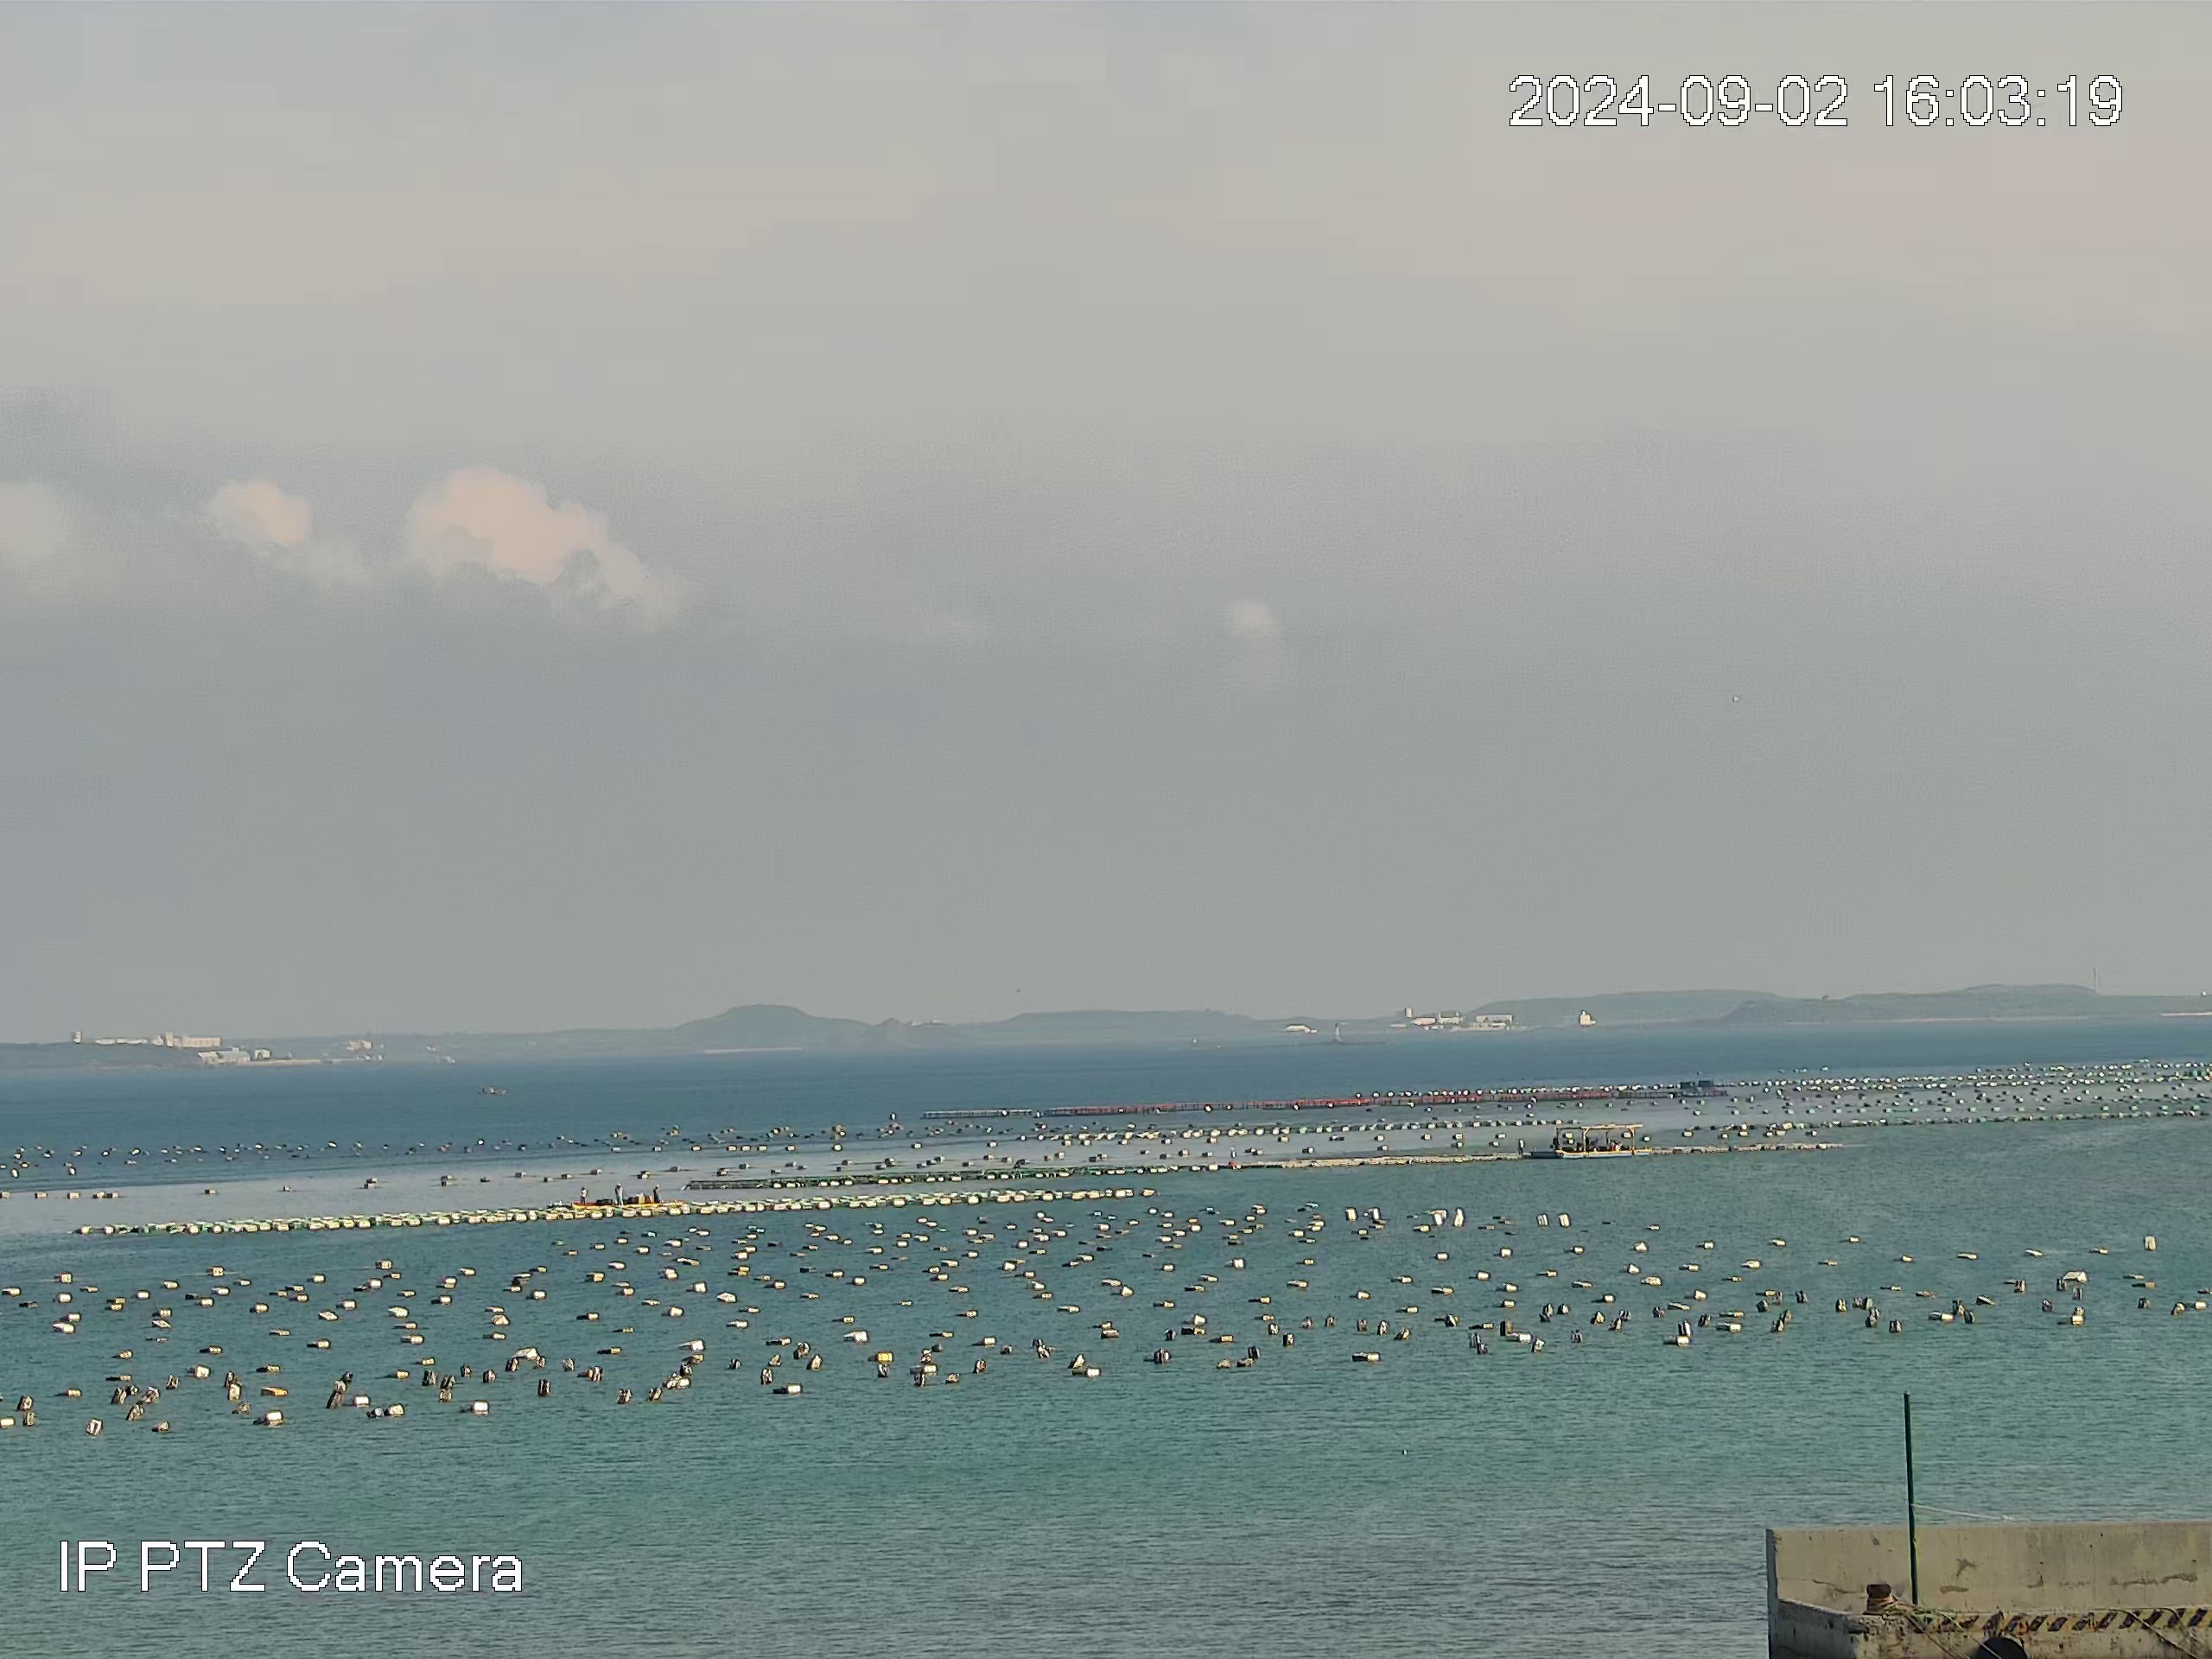boat: (1552, 1122, 1654, 1160), (570, 1183, 662, 1210), (476, 1084, 509, 1097)
